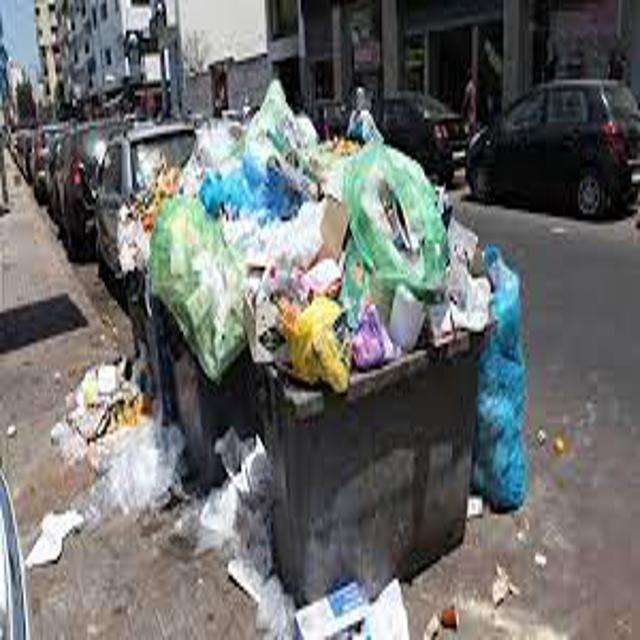garbage: (48, 97, 540, 588)
